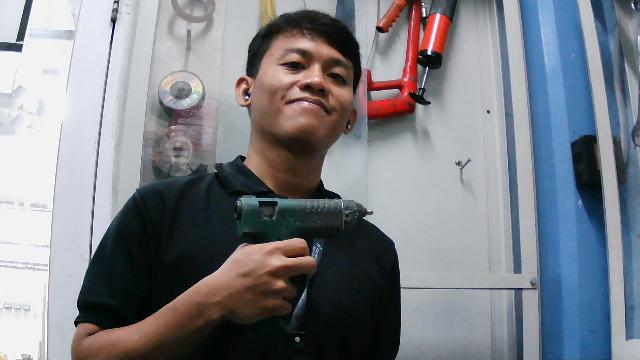gun_lem: (224, 189, 379, 327)
